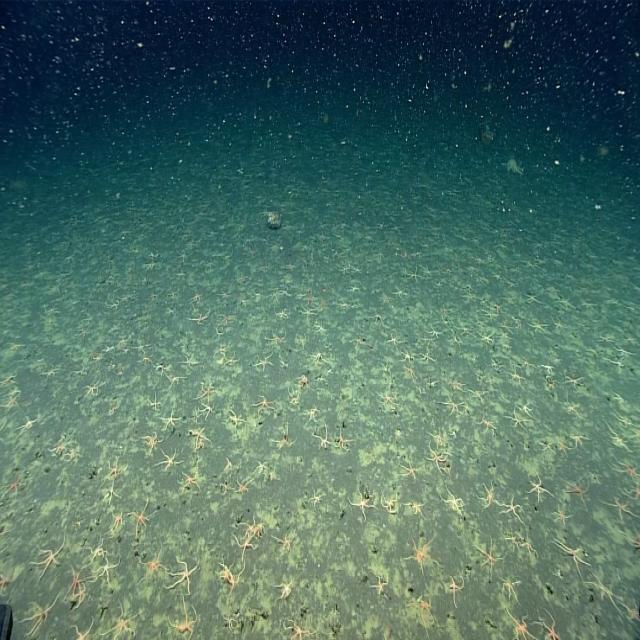brittle-stars: (0, 583, 64, 640), (22, 524, 74, 581), (540, 532, 602, 578), (100, 589, 154, 640), (132, 528, 172, 594), (401, 527, 444, 581), (580, 569, 632, 613), (166, 544, 205, 601), (60, 554, 91, 618), (167, 591, 207, 640), (404, 586, 442, 637), (266, 608, 326, 640), (126, 487, 160, 543), (498, 561, 532, 614), (361, 563, 400, 609), (230, 513, 265, 564), (471, 531, 506, 582), (90, 548, 126, 596), (473, 470, 507, 520), (597, 494, 640, 532), (213, 548, 245, 599), (442, 564, 472, 616), (418, 445, 459, 482), (0, 463, 30, 513), (442, 472, 469, 527), (344, 481, 378, 524), (545, 297, 575, 342), (525, 462, 558, 502), (103, 498, 132, 543), (535, 598, 566, 640), (502, 604, 537, 640), (44, 425, 74, 464), (67, 606, 101, 640), (270, 524, 302, 560), (268, 572, 304, 604), (79, 530, 108, 569), (541, 500, 581, 528), (500, 491, 528, 530), (268, 421, 298, 457), (158, 403, 188, 438), (402, 490, 431, 526), (561, 475, 590, 511), (14, 406, 46, 438), (212, 340, 246, 370), (602, 430, 639, 457), (102, 448, 134, 479), (154, 441, 180, 478), (248, 388, 278, 420), (298, 485, 330, 515), (222, 404, 250, 437), (504, 402, 528, 440), (376, 484, 402, 519), (313, 418, 335, 459), (332, 420, 357, 456), (438, 393, 467, 423), (0, 382, 24, 418), (139, 424, 164, 458), (398, 454, 423, 488), (621, 524, 640, 567), (425, 419, 449, 453), (190, 374, 217, 404), (186, 424, 208, 460), (520, 527, 542, 563), (477, 409, 501, 441), (613, 459, 640, 487), (556, 395, 582, 424), (79, 372, 101, 406), (446, 369, 472, 397), (345, 272, 367, 305), (100, 478, 124, 508), (234, 470, 257, 501), (191, 399, 223, 421), (248, 350, 274, 377), (509, 363, 530, 396), (621, 596, 640, 632), (292, 303, 326, 323), (176, 350, 202, 376), (307, 344, 332, 371), (375, 387, 402, 412), (613, 406, 640, 431), (177, 466, 200, 495), (399, 360, 422, 389), (39, 357, 61, 387), (266, 324, 290, 351), (183, 307, 213, 328), (506, 304, 527, 334), (373, 355, 398, 380), (602, 354, 628, 378), (456, 282, 480, 308), (304, 398, 324, 429), (132, 332, 152, 362), (573, 424, 593, 453), (404, 258, 425, 285), (506, 526, 522, 561), (444, 326, 464, 354), (216, 612, 239, 636), (182, 284, 205, 308), (168, 369, 186, 399), (362, 310, 392, 328), (144, 283, 162, 313), (456, 311, 474, 341), (522, 286, 544, 310), (348, 325, 369, 350), (283, 384, 303, 410), (270, 303, 296, 323), (146, 387, 165, 414), (375, 285, 394, 312), (423, 318, 445, 341), (308, 320, 336, 338), (555, 288, 575, 313), (118, 286, 138, 311), (166, 279, 183, 308), (291, 331, 313, 353), (468, 384, 490, 406), (140, 348, 156, 378), (538, 438, 558, 462), (252, 453, 271, 478), (568, 364, 586, 390), (0, 364, 16, 393), (420, 343, 437, 370), (277, 283, 301, 302), (532, 358, 560, 374), (390, 281, 410, 303), (588, 464, 604, 491), (295, 368, 311, 394), (215, 308, 238, 326), (480, 304, 498, 327), (521, 395, 538, 419), (557, 434, 572, 461), (280, 258, 300, 278), (384, 331, 405, 349), (475, 330, 496, 348), (202, 253, 220, 274), (154, 356, 169, 381), (145, 251, 160, 276), (215, 284, 232, 306), (300, 288, 318, 308), (528, 316, 546, 336), (336, 300, 357, 317), (76, 320, 92, 342), (173, 244, 190, 264), (221, 449, 236, 471), (184, 234, 202, 252), (425, 374, 442, 393), (259, 256, 273, 279), (106, 294, 122, 314), (396, 350, 415, 366), (231, 269, 251, 284), (265, 286, 281, 304), (277, 356, 290, 375), (590, 333, 614, 343), (213, 322, 225, 340), (117, 330, 127, 349), (503, 322, 513, 340)
